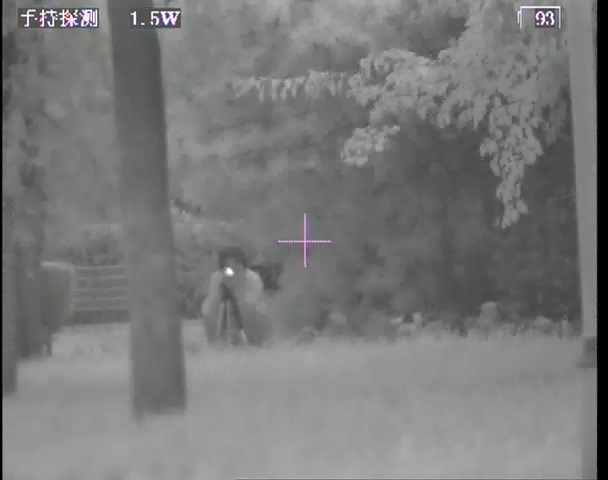my: (222, 264, 235, 278)
